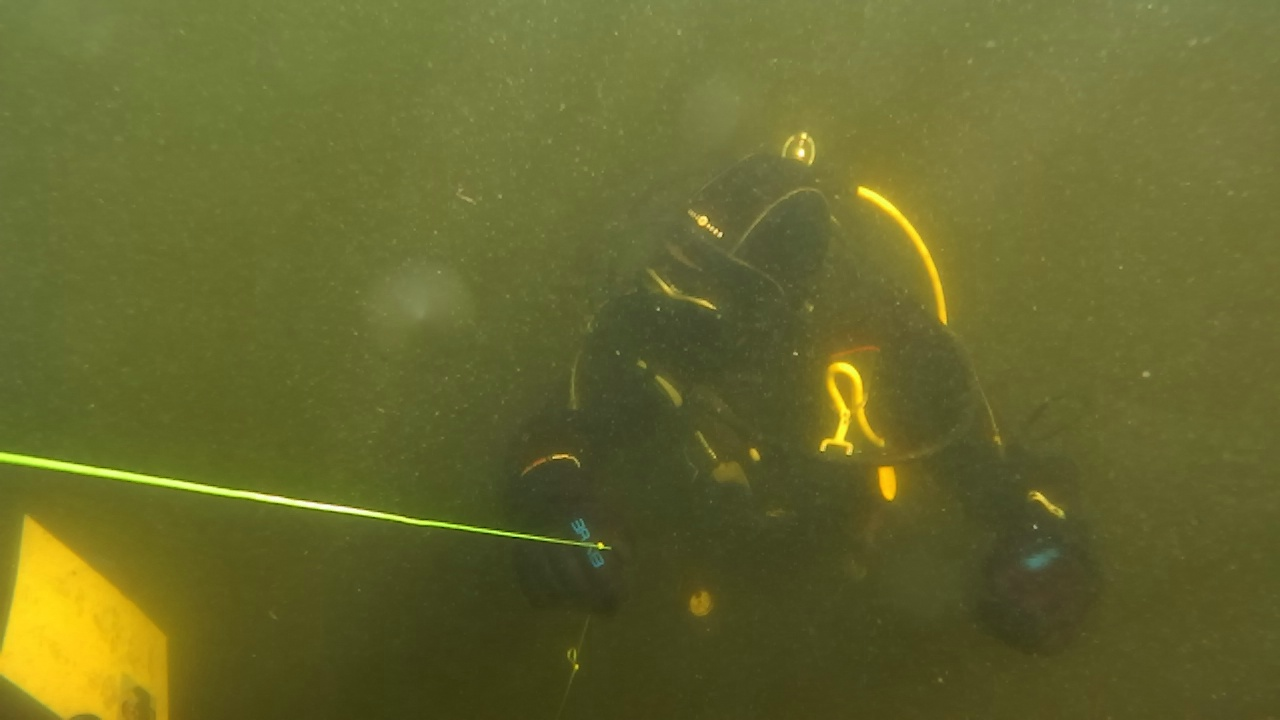Diver: (488, 142, 1104, 658)
Hand: (960, 502, 1090, 646), (502, 470, 630, 612)
